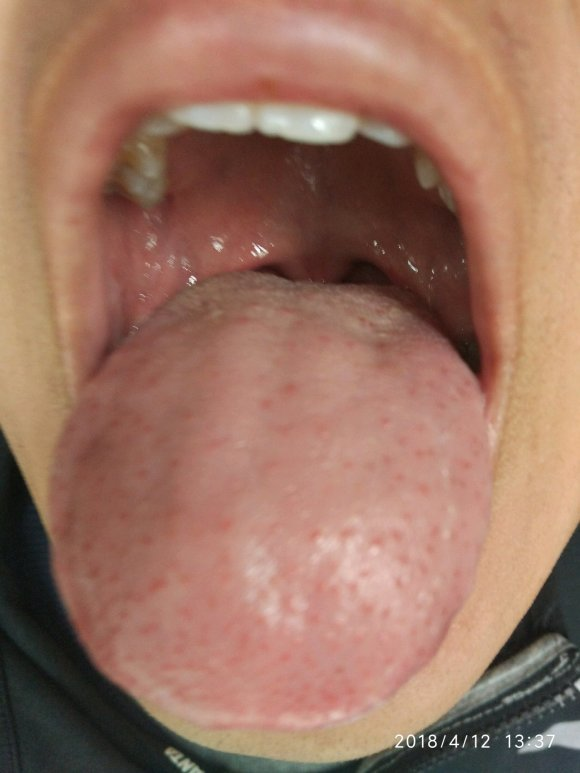baitaishe: (51, 272, 492, 730)
hongdianshe: (308, 524, 323, 543)
pangdashe: (51, 272, 492, 730)
